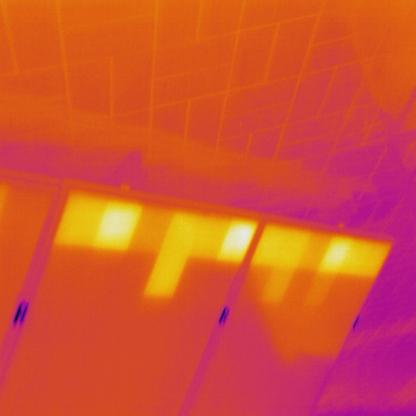hotspot: (94, 203, 139, 249), (350, 235, 386, 278), (147, 258, 185, 298), (161, 210, 191, 260), (219, 220, 254, 262), (191, 216, 221, 259), (272, 229, 306, 266), (264, 270, 292, 302), (323, 236, 347, 272)
